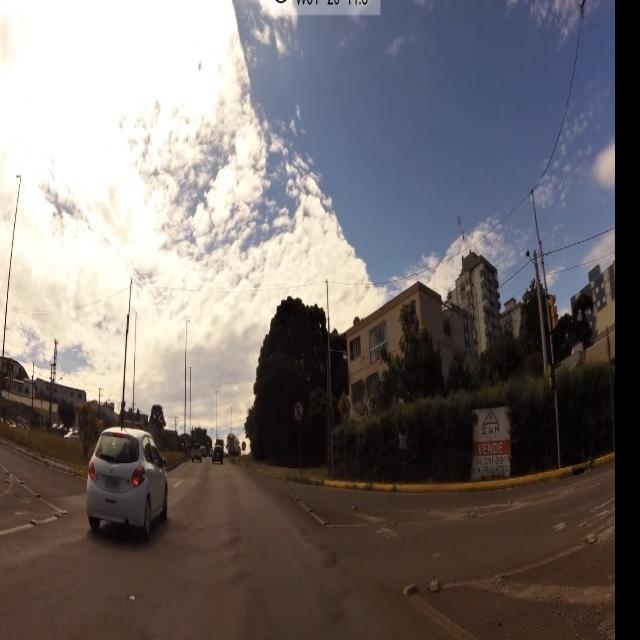A-32b: (337, 390, 354, 420)
